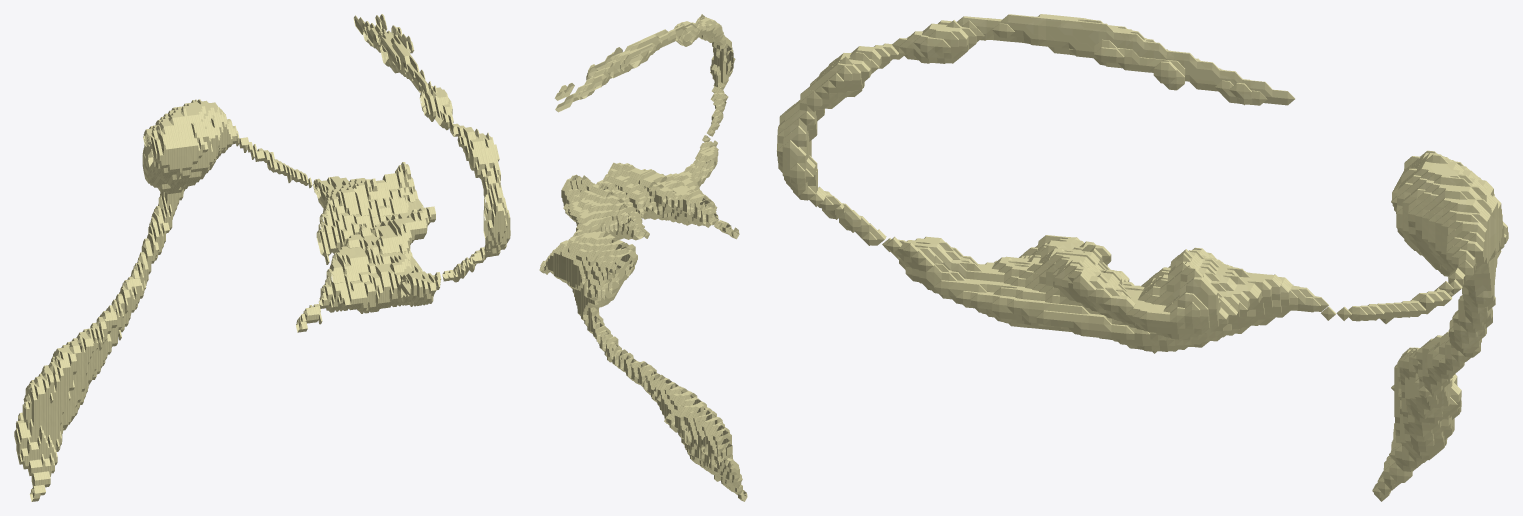
Rendered from SVV_OLQDL.gltf.
3 renders of one model, left to right at view 1: azimuth 30°, elevation 25°; view 2: azimuth 150°, elevation 25°; view 3: azimuth 270°, elevation 25°, orthographic. The views are drawn at different scales.
Parts seen in each view (by area): view 1: OLQDL; view 2: OLQDL; view 3: OLQDL.
Boxes of the visible parts, bbox=[...] form: OLQDL: bbox=[14, 14, 510, 501]; OLQDL: bbox=[539, 14, 747, 501]; OLQDL: bbox=[777, 14, 1508, 501].
Size of the model in its own units: 41923 by 60678 by 62322.
